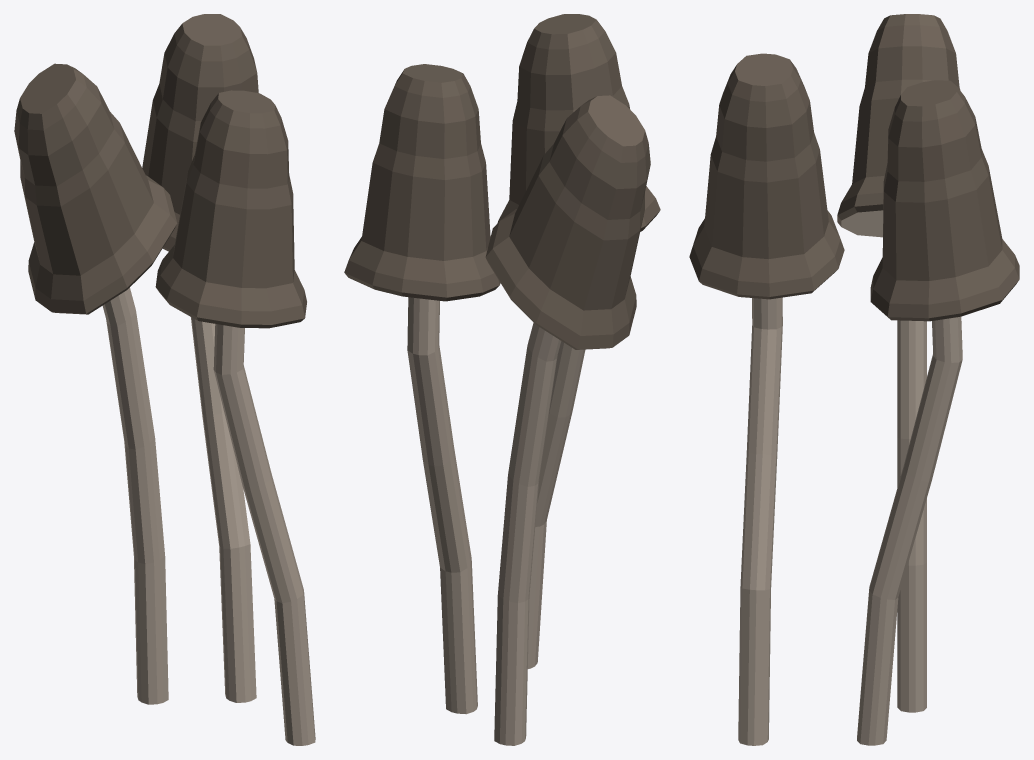
Rendered from Mushroom4.5.fbx.
3 renders of one model, left to right at view 1: azimuth 30°, elevation 25°; view 2: azimuth 150°, elevation 25°; view 3: azimuth 270°, elevation 25°, orthographic.
Visible parts, largest first — view 1: Mushroom4.5; view 2: Mushroom4.5; view 3: Mushroom4.5.
Part boxes in pixels (<box>): Mushroom4.5: <box>14,14,315,745</box>; Mushroom4.5: <box>344,14,660,745</box>; Mushroom4.5: <box>689,14,1019,745</box>.
Size of the model in its own units: 95.98 by 227 by 104.
